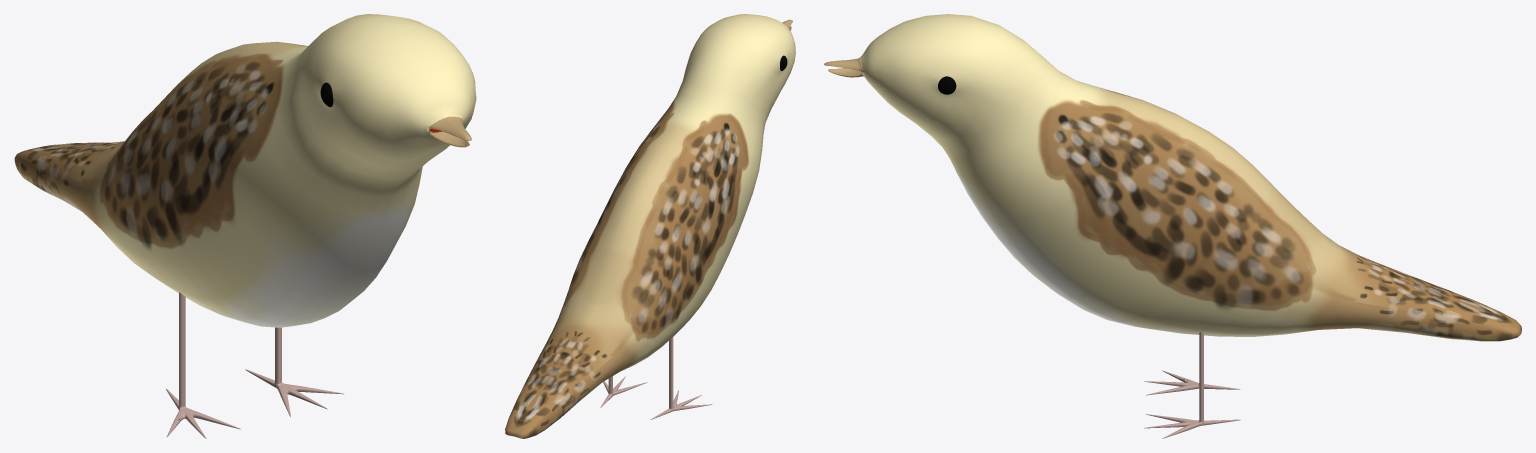
The model's file is Cistothorus apolinari V3.gltf.
3 views of the same model, side by side, from view 1: azimuth 30°, elevation 25°; view 2: azimuth 150°, elevation 25°; view 3: azimuth 270°, elevation 25° (orthographic). The views are drawn at different scales.
Visible parts, largest first — view 1: Cistothorus apolinari Mesh; view 2: Cistothorus apolinari Mesh; view 3: Cistothorus apolinari Mesh.
Boxes of the visible parts, left/top/right/bottom form: Cistothorus apolinari Mesh: left=14, top=14, right=476, bottom=438; Cistothorus apolinari Mesh: left=505, top=14, right=795, bottom=438; Cistothorus apolinari Mesh: left=824, top=14, right=1521, bottom=438.
Size of the model in its own units: 0.2856 by 0.7502 by 1.23.
1 material, 1 textured.
